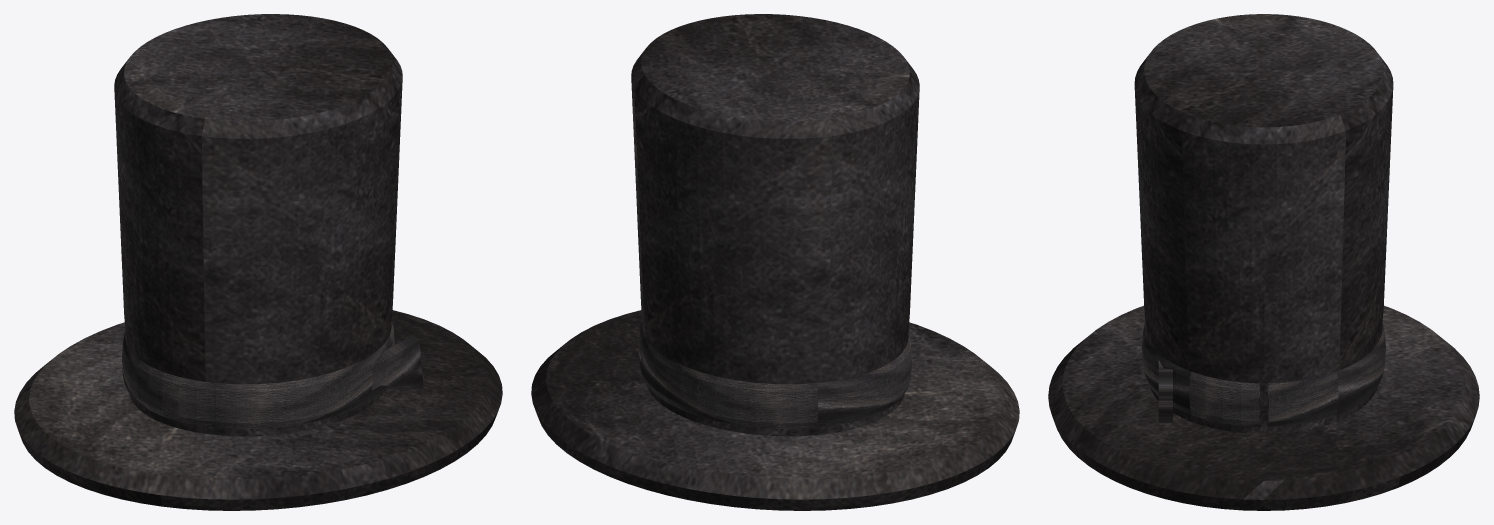
The picture shows the model from 3 angles, left to right: view 1: azimuth 30°, elevation 25°; view 2: azimuth 150°, elevation 25°; view 3: azimuth 270°, elevation 25°; orthographic projection. The views are drawn at different scales.
Visible parts, largest first — view 1: hollow_crown_and_rim, silk_band, silk_bow; view 2: hollow_crown_and_rim, silk_band; view 3: hollow_crown_and_rim, silk_band, silk_bow.
Boxes of the visible parts, box(x1,y1,x2,y2) form: hollow_crown_and_rim: box(14, 14, 502, 510); silk_band: box(122, 322, 394, 428); silk_bow: box(370, 335, 423, 390); hollow_crown_and_rim: box(531, 14, 1019, 510); silk_band: box(639, 322, 911, 428); hollow_crown_and_rim: box(1048, 14, 1479, 510); silk_band: box(1142, 322, 1385, 426); silk_bow: box(1158, 360, 1172, 423).
Size of the model in its own units: 110 by 84.12 by 97.06.
Materials: 2 (2 with a texture image).
